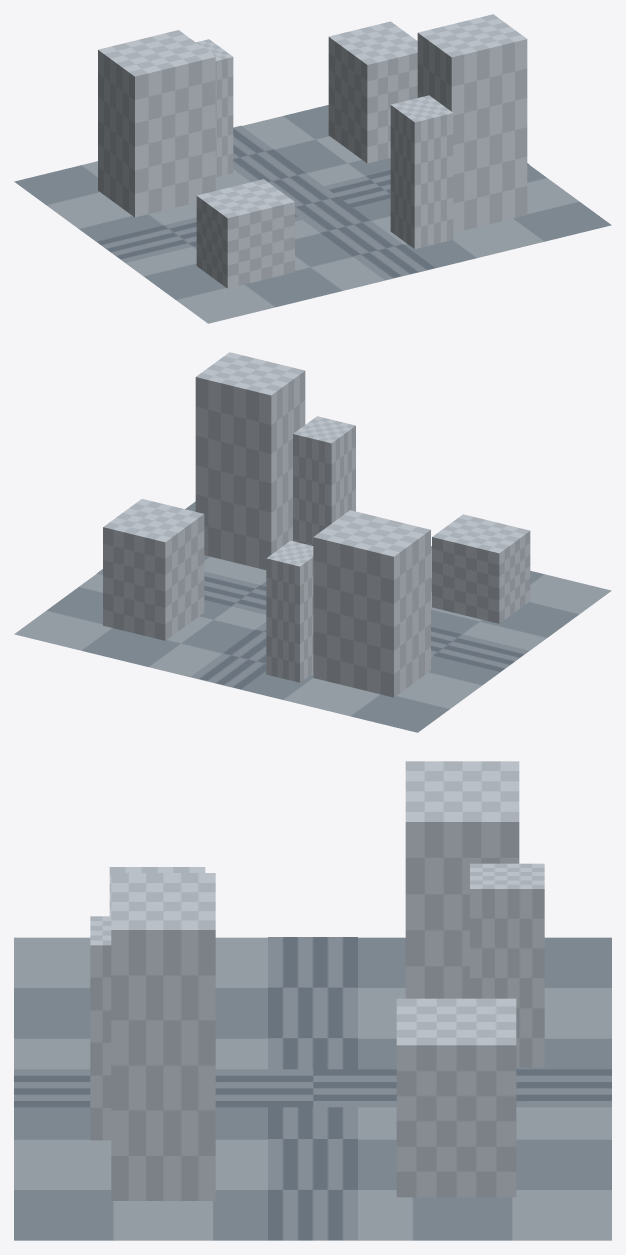
File: result.glb
3 views of the same model, one above another, from view 1: azimuth 30°, elevation 25°; view 2: azimuth 150°, elevation 25°; view 3: azimuth 270°, elevation 25° (orthographic). The views are drawn at different scales.
Visible parts, largest first — view 1: Viewer baked procedural surfaces; view 2: Viewer baked procedural surfaces; view 3: Viewer baked procedural surfaces.
Part boxes in pixels (<box>): Viewer baked procedural surfaces: <box>14,14,611,323</box>; Viewer baked procedural surfaces: <box>14,352,611,732</box>; Viewer baked procedural surfaces: <box>14,761,611,1240</box>.
Size of the model in its own units: 24 by 10 by 20.
Materials: 3 (3 with a texture image).
